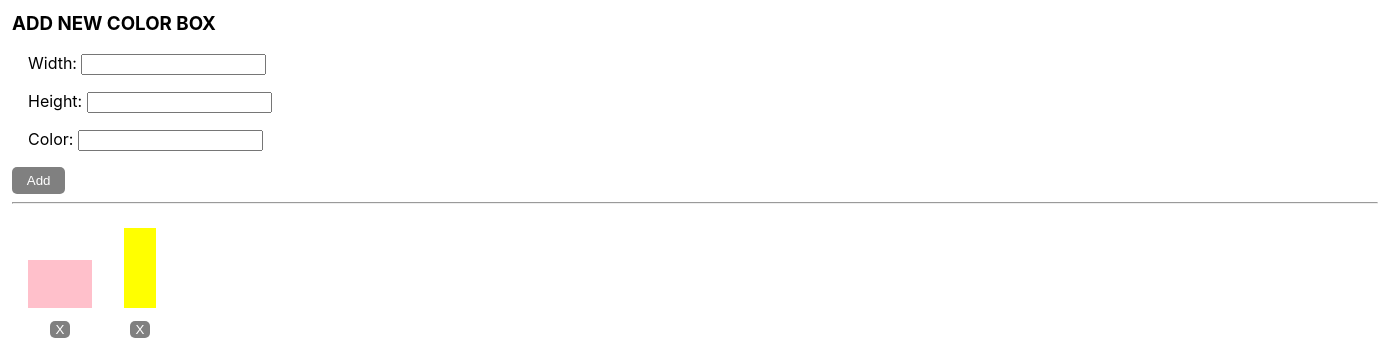
Test case: can add a new box
Expected: the number of buttons "X" is 2, [50,321,70,338]; [130,321,150,338]
Type "peachpuff" into the field labelled "Color:" at x=170, y=141, box [78,130,263,151]
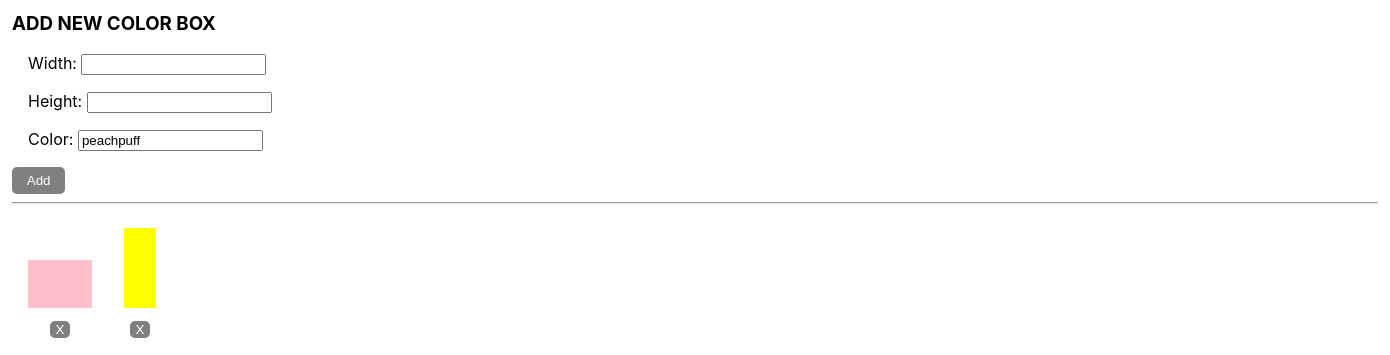
Type "2" into the number field labelled "Width:" at x=174, y=65, box [82,54,266,75]
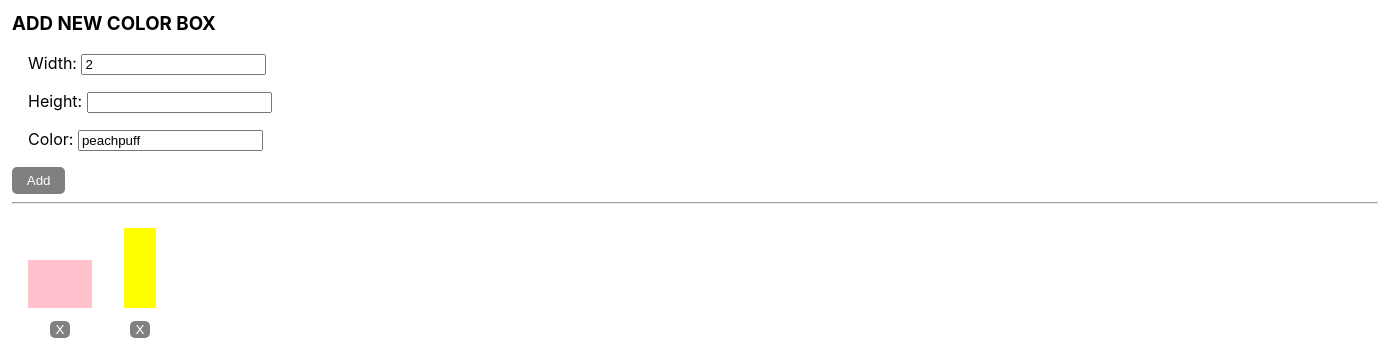
Type "2" into the number field labelled "Height:" at x=179, y=103, box [87,92,272,113]
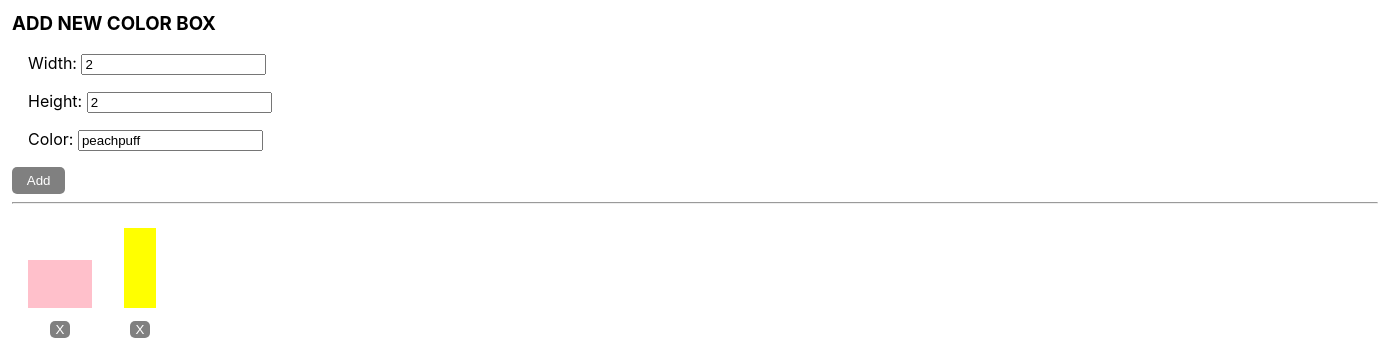
Click the button "Add" at x=39, y=181, box [12,167,65,194]
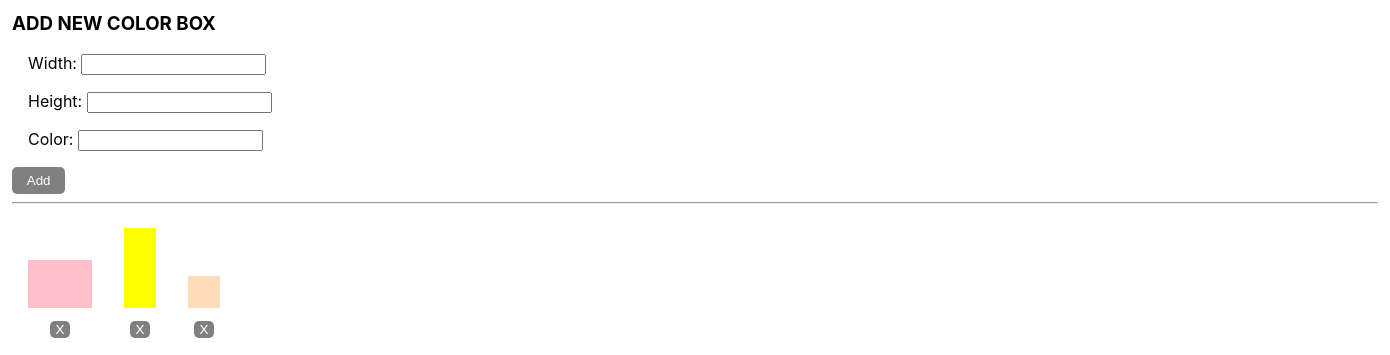
Expected: the number of buttons "X" is 3, [50,321,70,338]; [130,321,150,338]; [194,321,214,338]
